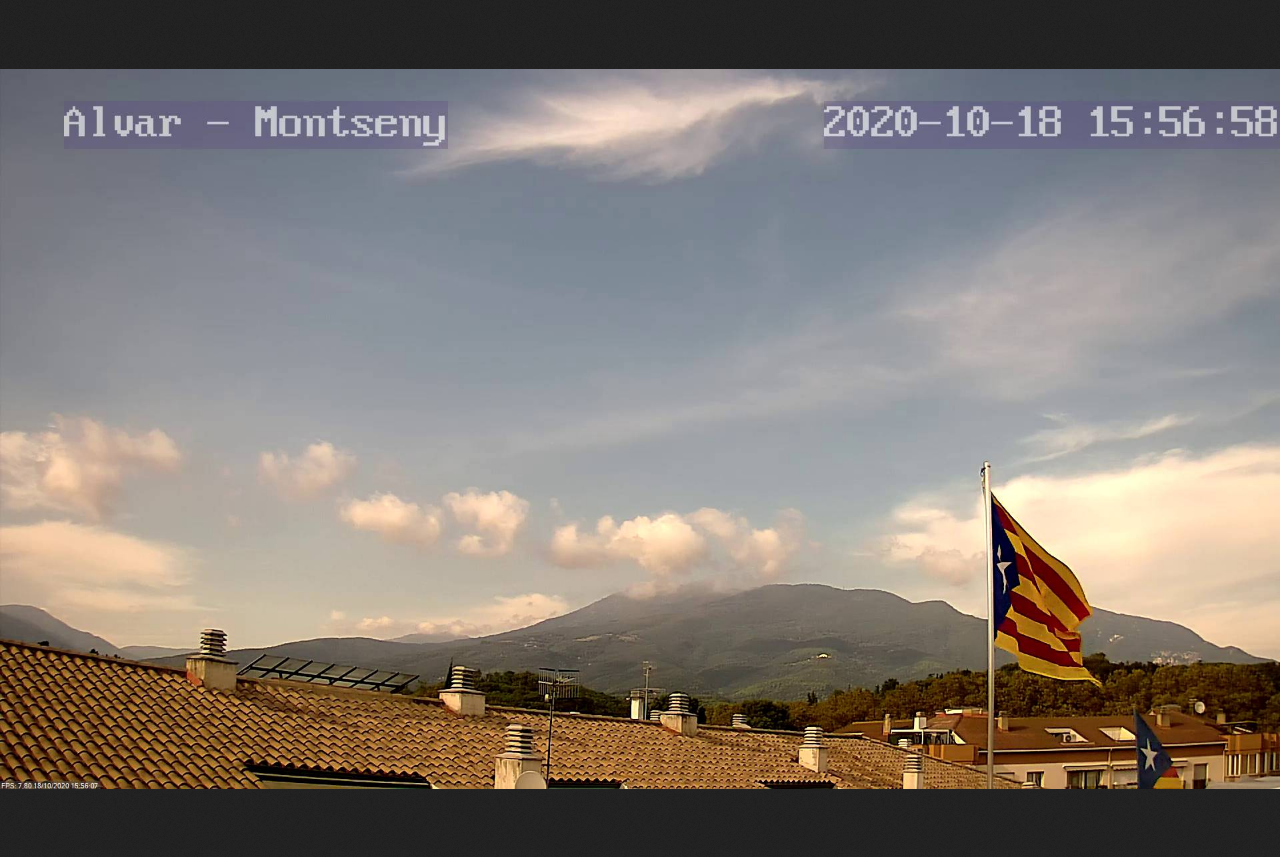maybe: (977, 461, 1105, 687)
